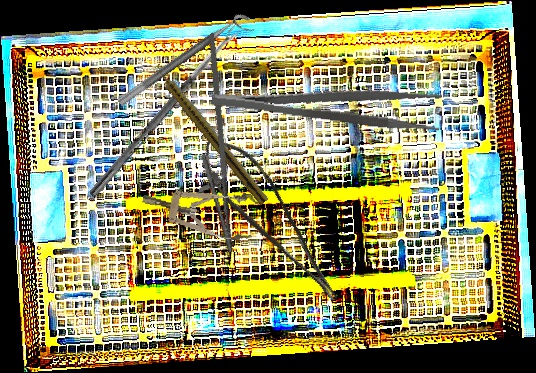Dressing Forceps: (210, 69, 443, 135)
Fixation Ring: (116, 9, 257, 118)
Handpiece: (150, 61, 272, 206)
Micro Scissor: (191, 122, 345, 323)
Needle Holder: (165, 32, 261, 257)
Speculum: (138, 174, 261, 244)
Surgical Spoon: (88, 24, 242, 200)
